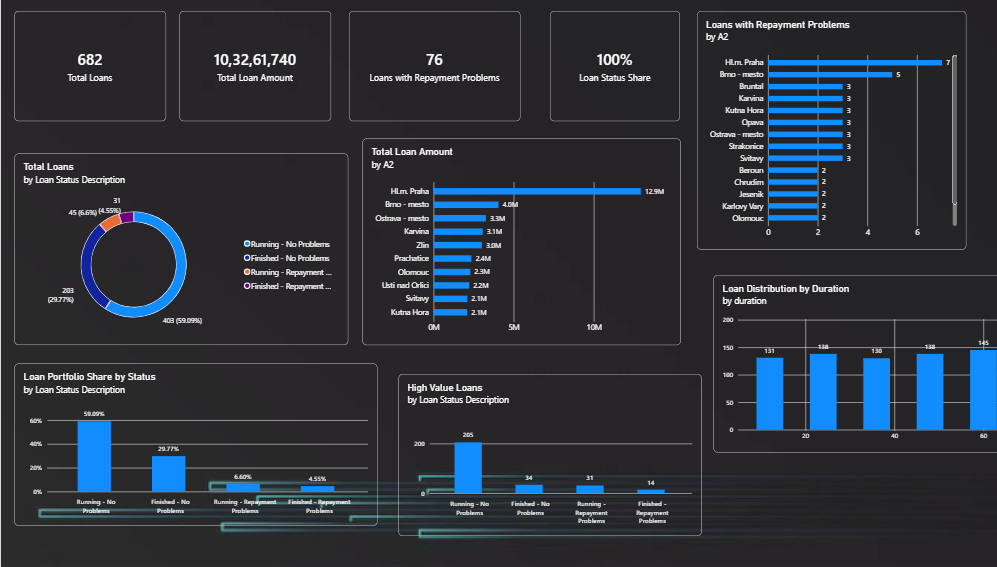

The page's visual inventory and layout, read from the dashboard file:
{"tool":"powerbi","page":{"name":"Loan Portfolio & Risk Analysis","canvas":[1920,1080],"ordinal":1},"visuals":[{"type":"card","fields":{"Values":["account.Total Loans"]},"box":[25.5,51,280.6,204.1],"z":0},{"type":"card","fields":{"Values":["account.Total Loan Amount"]},"box":[331.7,51,280.6,204.1],"z":1},{"type":"card","fields":{"Values":["account.Loans with Repayment Problems"]},"box":[643.5,51,317.5,204.1],"z":2},{"type":"card","fields":{"Values":["account.Repayment Problem Rate"]},"box":[1017.6,51,240.9,204.1],"z":3},{"type":"donutChart","fields":{"Category":["loan.Loan Status Description","loan.status"],"Y":["account.Total Loans"]},"box":[25.5,314.6,618,354.3],"z":4},{"type":"clusteredBarChart","fields":{"Category":["district.A2"],"Y":["account.Total Loan Amount"]},"box":[669,286.3,589.6,382.7],"z":5},{"type":"clusteredBarChart","fields":{"Category":["district.A2"],"Y":["account.Loans with Repayment Problems"]},"box":[1289.8,51,498.9,442.2],"z":6},{"type":"clusteredColumnChart","fields":{"Category":["loan.duration"],"Y":["account.Total Loans"]},"box":[1318.1,538.6,558.4,328.8],"z":7},{"type":"clusteredColumnChart","fields":{"Category":["loan.Loan Status Description"],"Y":["account.Loan Status Share"]},"box":[25.5,703,671.8,300.5],"z":8},{"type":"clusteredColumnChart","fields":{"Category":["loan.Loan Status Description"],"Y":["account.High Value Loans"]},"box":[737,722.8,561,300],"z":9}]}

Visuals, with their boxes in screenshot pixels (x1, y1, x2, y2), scaled from the page's 1920x1080 canvas onto the 997x567 screenshot:
card - account.Total Loans: x1=13, y1=27, x2=159, y2=134
card - account.Total Loan Amount: x1=172, y1=27, x2=318, y2=134
card - account.Loans with Repayment Problems: x1=334, y1=27, x2=499, y2=134
card - account.Repayment Problem Rate: x1=528, y1=27, x2=654, y2=134
donutChart - loan.Loan Status Description x loan.status: x1=13, y1=165, x2=334, y2=351
clusteredBarChart - district.A2 x account.Total Loan Amount: x1=347, y1=150, x2=654, y2=351
clusteredBarChart - district.A2 x account.Loans with Repayment Problems: x1=670, y1=27, x2=929, y2=259
clusteredColumnChart - loan.duration x account.Total Loans: x1=684, y1=283, x2=974, y2=455
clusteredColumnChart - loan.Loan Status Description x account.Loan Status Share: x1=13, y1=369, x2=362, y2=527
clusteredColumnChart - loan.Loan Status Description x account.High Value Loans: x1=383, y1=379, x2=674, y2=537
